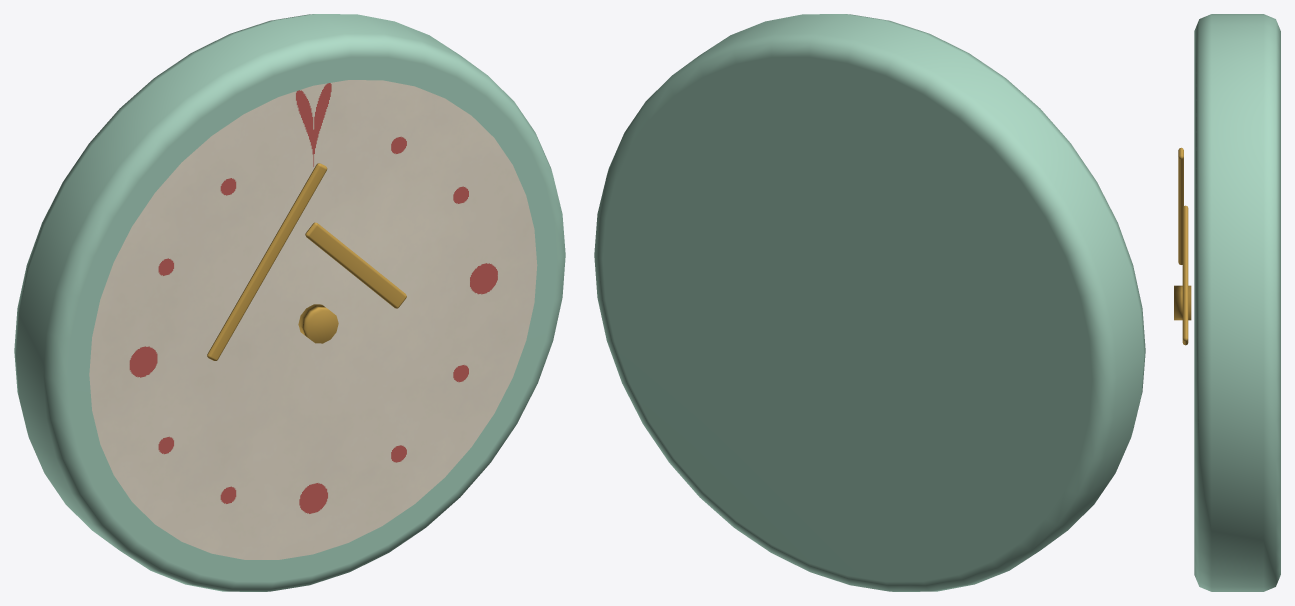
The model's file is wall_clock.glb.
3 views of the same model, side by side, from view 1: azimuth 30°, elevation 25°; view 2: azimuth 150°, elevation 25°; view 3: azimuth 270°, elevation 25° (orthographic). The views are drawn at different scales.
Visible parts, largest first — view 1: model; view 2: model; view 3: model.
Boxes of the visible parts, <box> form: model: <box>14,14,565,591</box>; model: <box>594,14,1145,591</box>; model: <box>1174,14,1280,591</box>.
Size of the model in its own units: 0.4 by 0.4 by 0.074.
3 materials, 1 textured.
